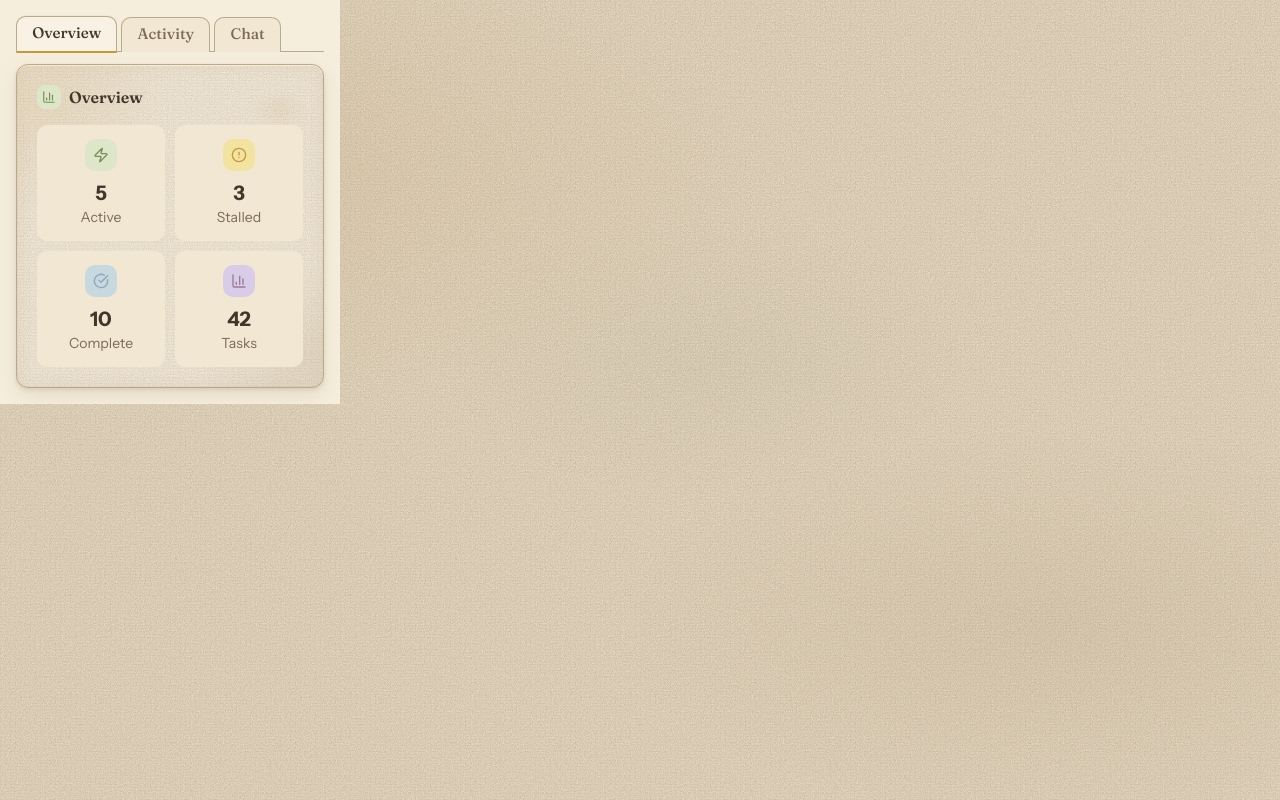
Test: RightPanel › tab navigation › switches to Activity pane and shows recent activity heading
This screenshot has width=1280, height=800.
Click the tab "Activity": point(166, 34) [121,17,210,52]
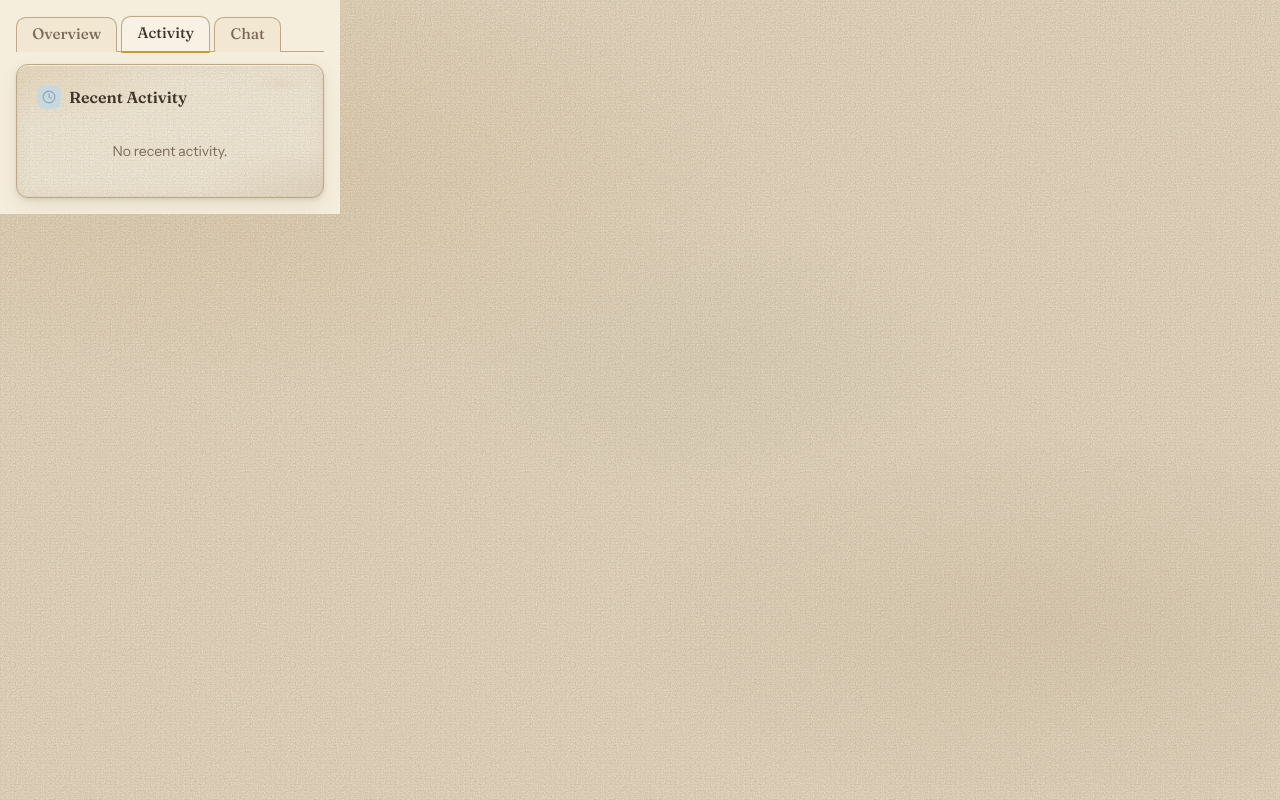
Expected: the text "Recent Activity" is shown, [69,85,187,109]
Expected: the text "No recent activity." is shown, [113,142,228,160]
